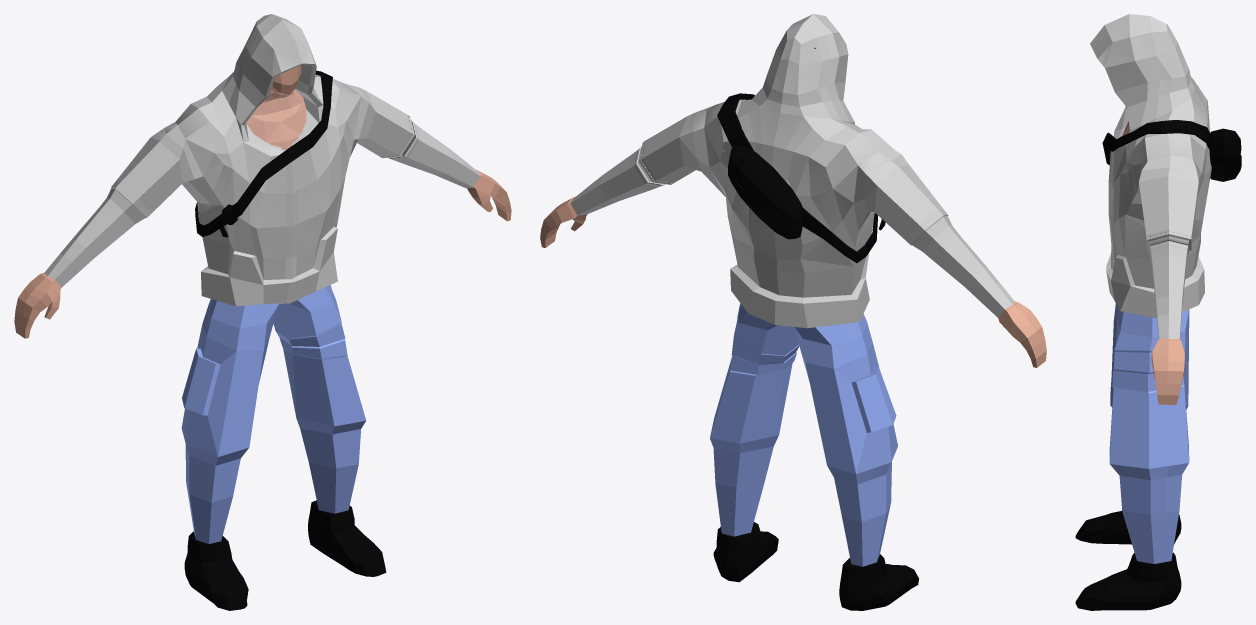
Rendered from MC_SPRITE.fbx.
The picture shows the model from 3 angles, left to right: view 1: azimuth 30°, elevation 25°; view 2: azimuth 150°, elevation 25°; view 3: azimuth 270°, elevation 25°; orthographic projection.
Parts seen in each view (by area): view 1: Human Test; view 2: Human Test; view 3: Human Test.
Part boxes in pixels (bbox=[...]): Human Test: bbox=[14, 14, 511, 610]; Human Test: bbox=[540, 14, 1046, 610]; Human Test: bbox=[1075, 14, 1241, 610].
Size of the model in its own units: 175 by 190 by 51.45.
